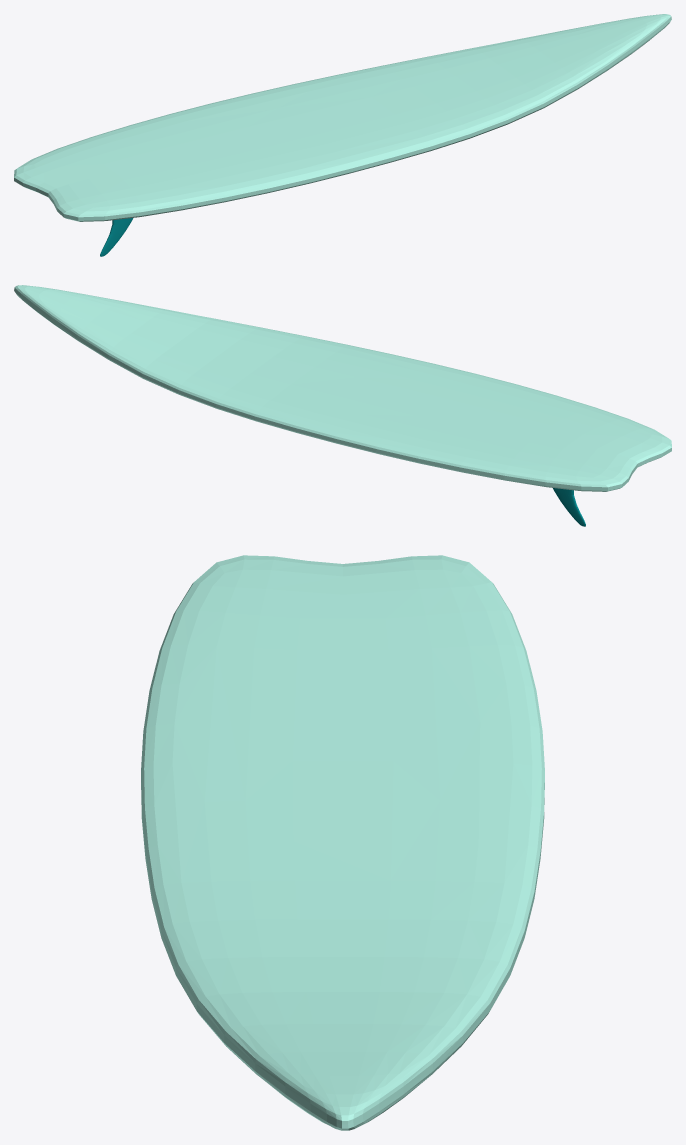
Rendered from Surfboard_2.glb.
The picture shows the model from 3 angles, top to bottom: view 1: azimuth 30°, elevation 25°; view 2: azimuth 150°, elevation 25°; view 3: azimuth 270°, elevation 25°; orthographic projection. The views are drawn at different scales.
Parts seen in each view (by area): view 1: Cube_1, Cube; view 2: Cube_1, Cube; view 3: Cube_1.
Part boxes in pixels (x1,y1,x2,y2): Cube_1: (14, 14, 671, 221); Cube: (100, 218, 133, 256); Cube_1: (14, 285, 671, 491); Cube: (553, 488, 585, 526); Cube_1: (141, 555, 544, 1130).
Size of the model in its own units: 427 by 66.78 by 118.
